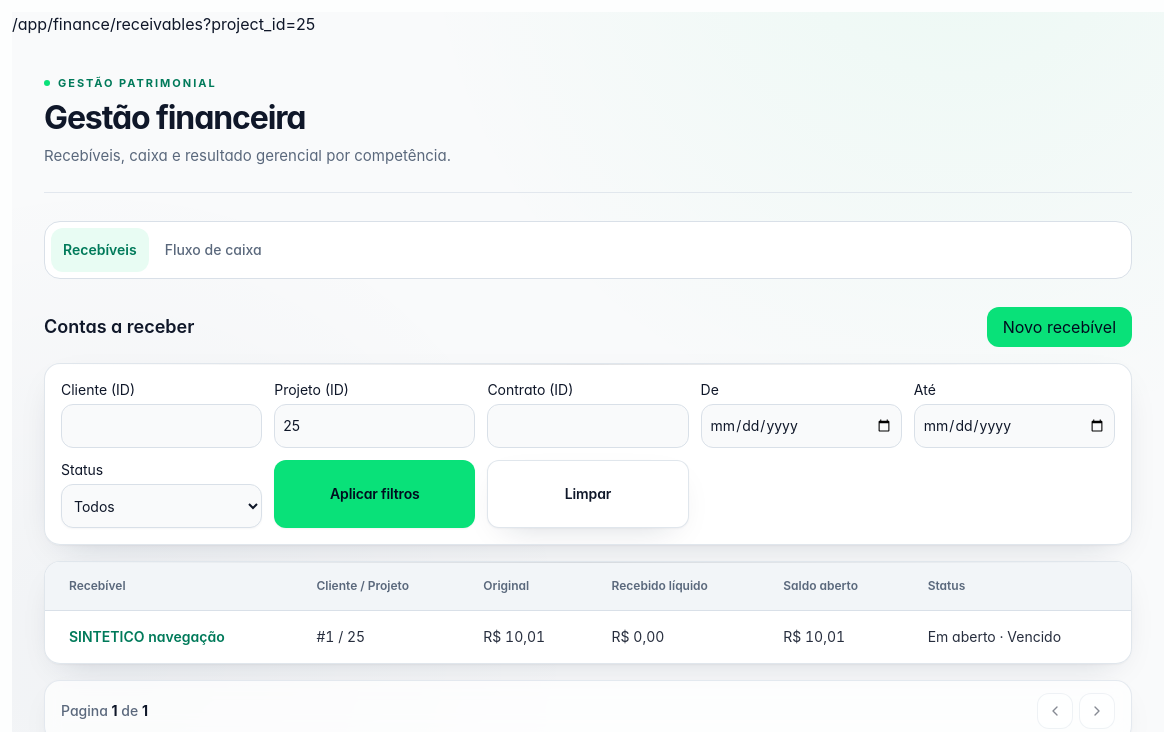
Test case: Financial navigation through real nested routes › navigates list → detail → cash → list with persistent financial navigation
Click the link "SINTETICO navegação": click(147, 636) [69,628,225,645]
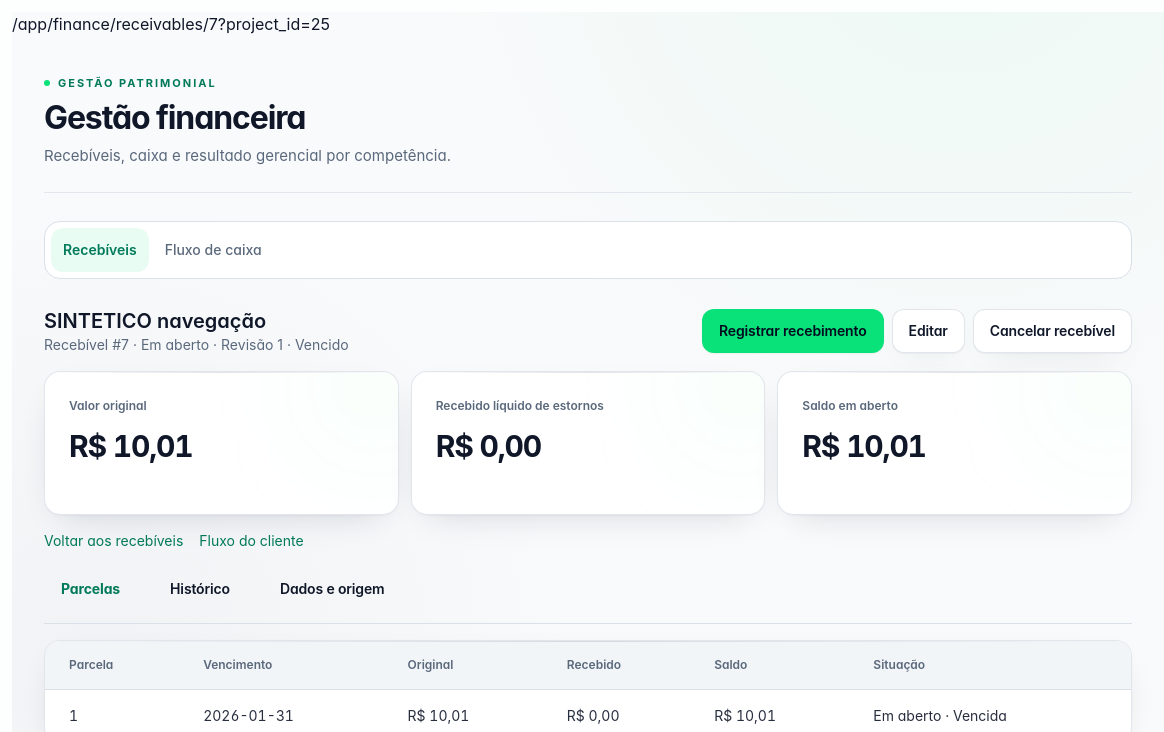
Expected: the heading "SINTETICO navegação" is shown, [44,309,266,333]
Expected: the text with test id "location" shows "project_id=25", [12,14,330,34]
Click the button "Histórico": click(200, 589) [153,567,247,611]
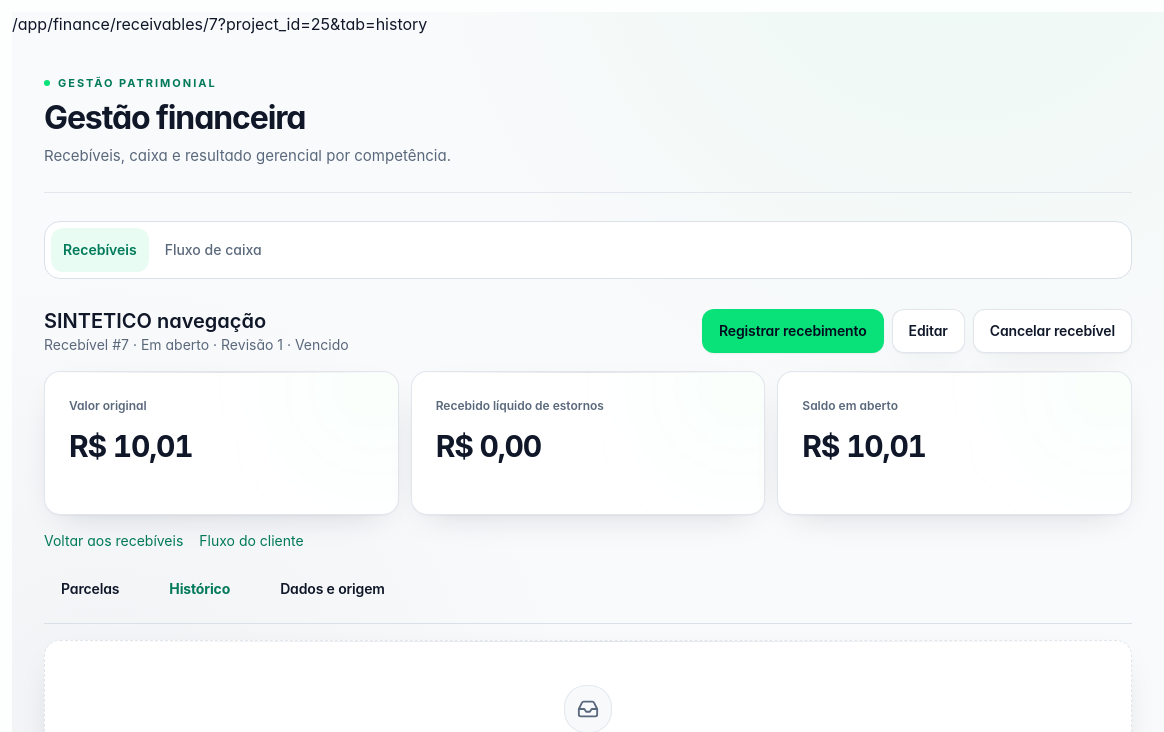
Expected: the text with test id "location" shows "project_id=25", [12,14,427,34]
Result: the text with test id "location" shows "tab=history" at [12,14,427,34]
Click the link "Fluxo de caixa": click(213, 250) [165,241,262,258]
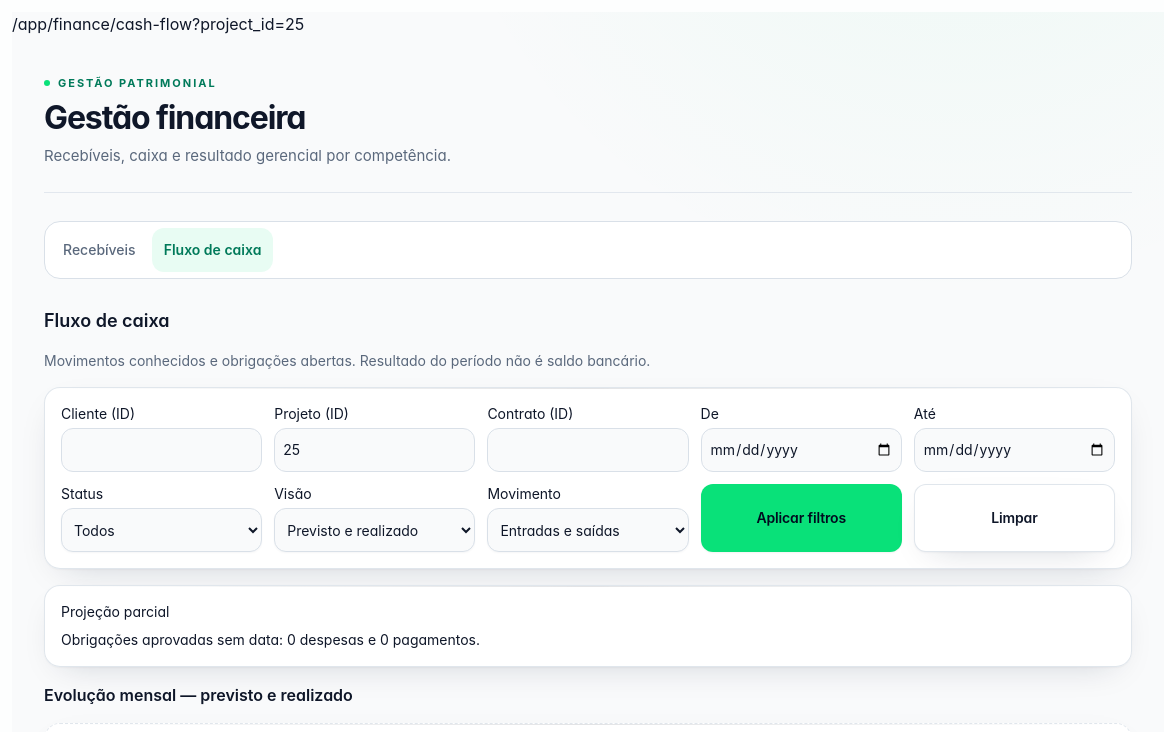
Result: the text "Projeção parcial" is shown at [61,603,169,620]
Click the link "Recebíveis": click(99, 250) [63,241,136,258]
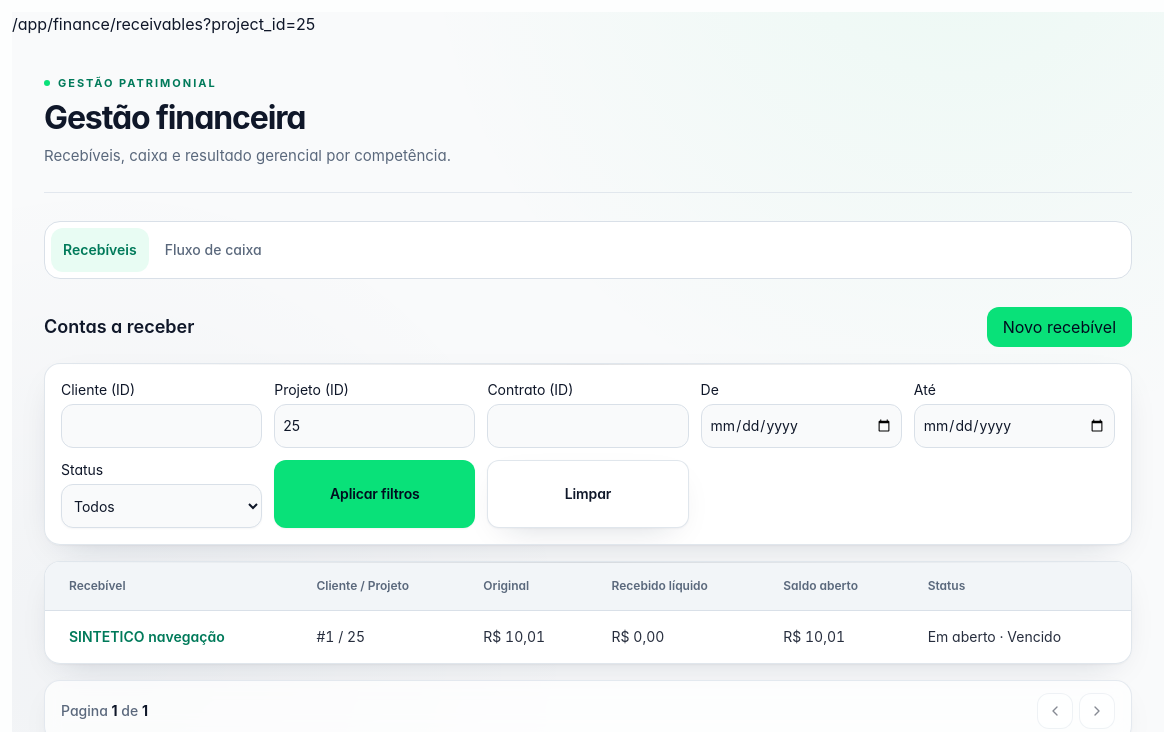
Result: the link "SINTETICO navegação" is shown at [69,628,225,645]
